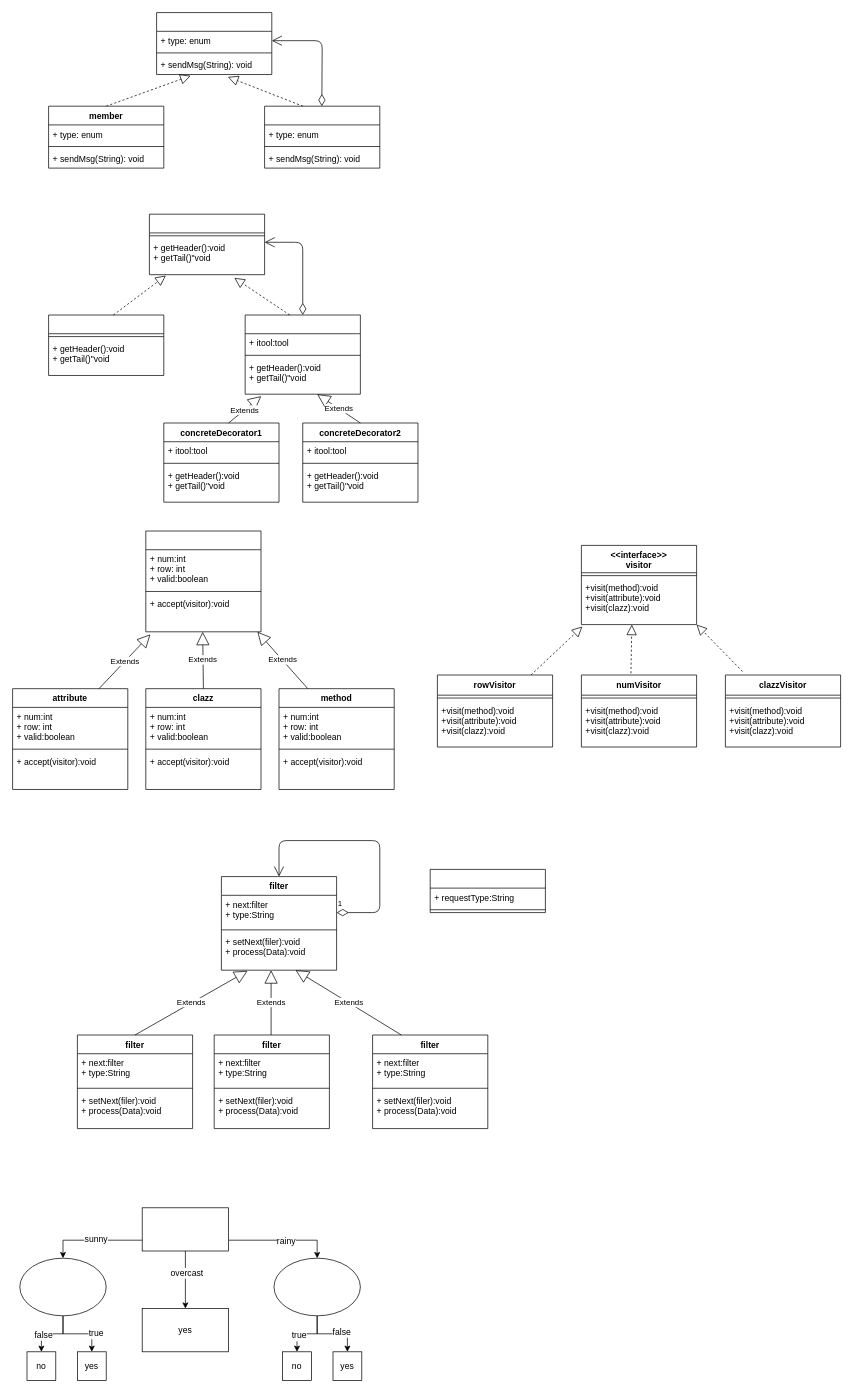
This 853x1393 diagram has some shape labels left out. Each missing label, with the box of its shape:
concreteTool: (48, 314, 164, 375)
Data: (429, 869, 545, 913)
element: (145, 530, 261, 632)
entity: (156, 12, 272, 75)
group: (264, 105, 380, 168)
humidity: (19, 1257, 106, 1316)
outlook: (141, 1207, 229, 1251)
tool: (149, 213, 265, 275)
toolDecorator: (244, 314, 360, 394)
windy: (273, 1257, 360, 1316)
